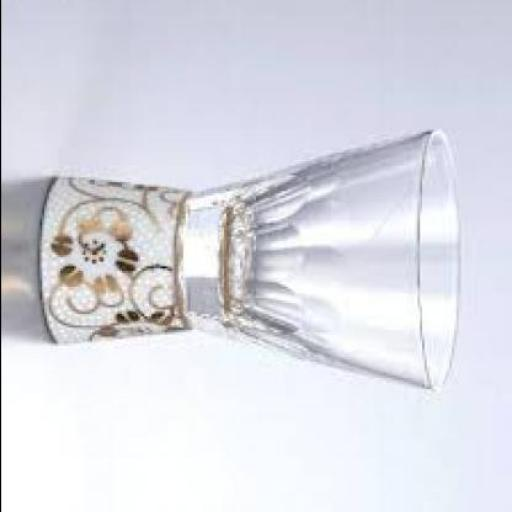glass: (182, 132, 460, 391)
